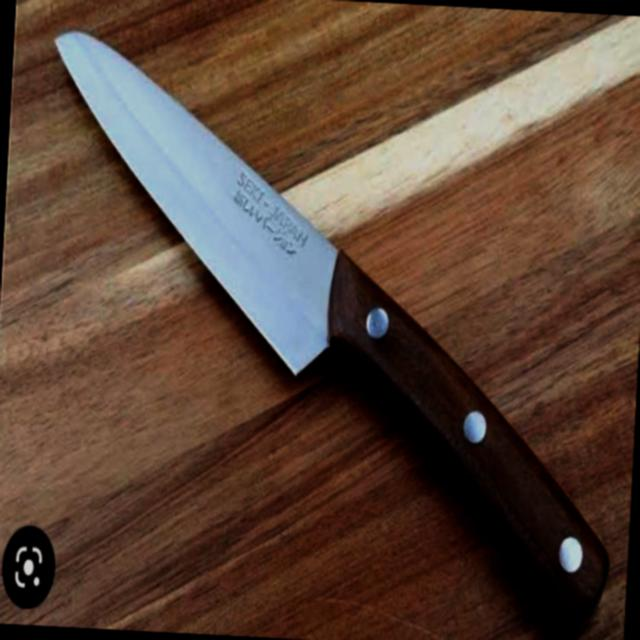knife: (25, 30, 637, 640)
